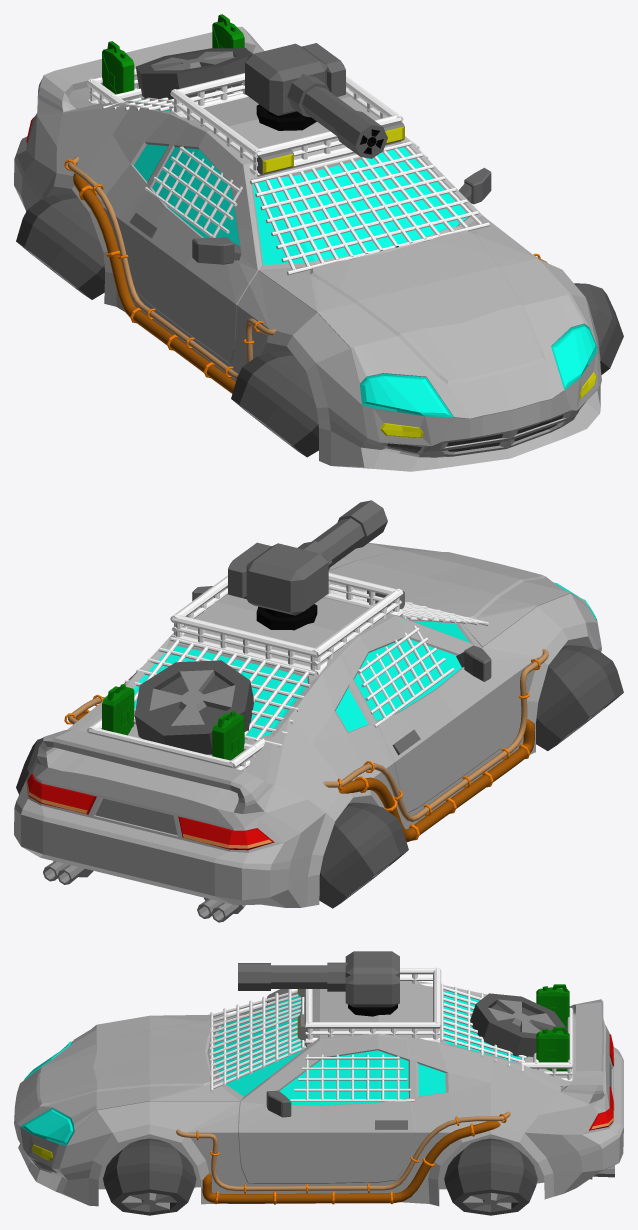
File: SK_car_Katsura GTR.fbx
The picture shows the model from 3 angles, top to bottom: view 1: azimuth 30°, elevation 25°; view 2: azimuth 150°, elevation 25°; view 3: azimuth 270°, elevation 25°; orthographic projection. The views are drawn at different scales.
Visible parts, largest first — view 1: SK_car_Katsura GTR, SM_arma; view 2: SK_car_Katsura GTR, SM_arma; view 3: SK_car_Katsura GTR, SM_arma.
Part boxes in pixels (left/top/right/bottom): SK_car_Katsura GTR: left=14, top=14, right=623, bottom=471; SM_arma: left=245, top=43, right=387, bottom=158; SK_car_Katsura GTR: left=14, top=543, right=623, bottom=922; SM_arma: left=228, top=500, right=387, bottom=615; SK_car_Katsura GTR: left=14, top=967, right=623, bottom=1215; SM_arma: left=238, top=951, right=399, bottom=1007.
Size of the model in its own units: 254 by 168 by 449.
